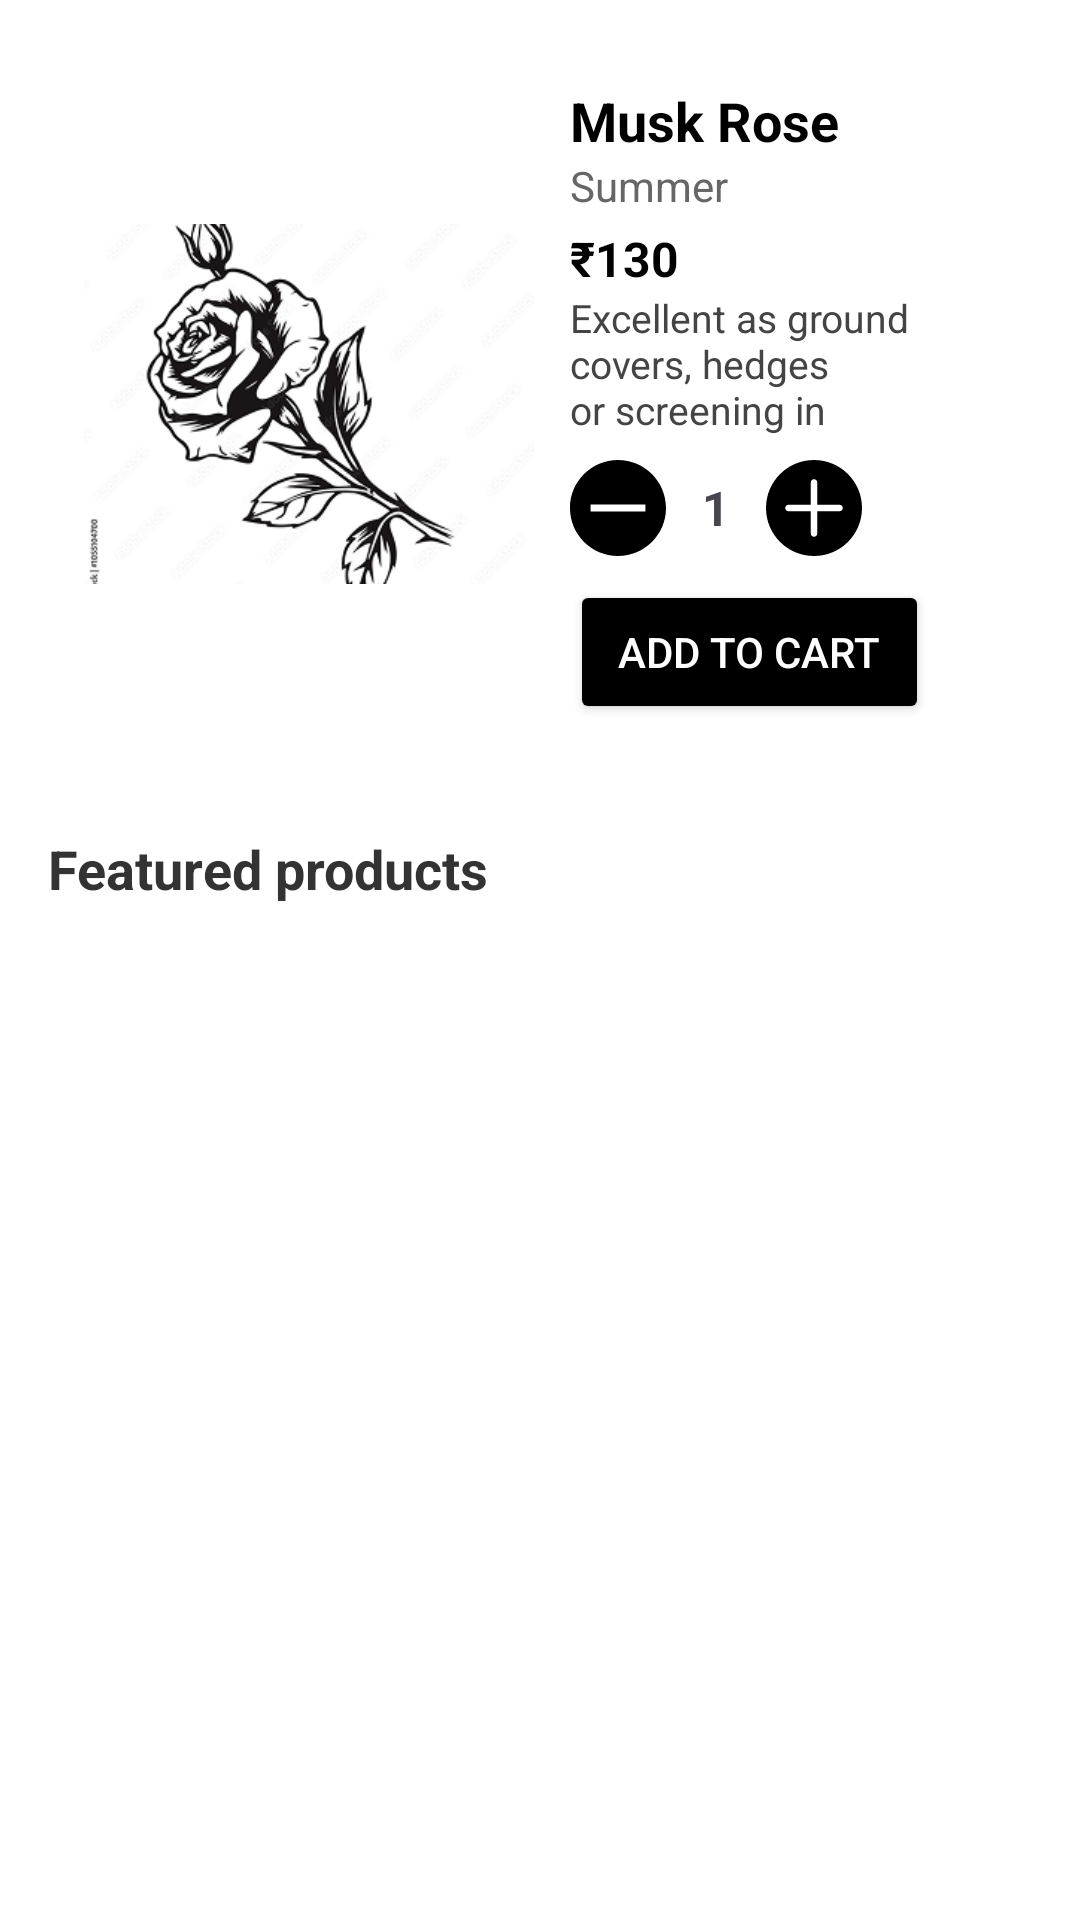

Named icons in this screenshot (1080*1920) and their centers, [x,y]:
Increase Quantity: [814,508]
